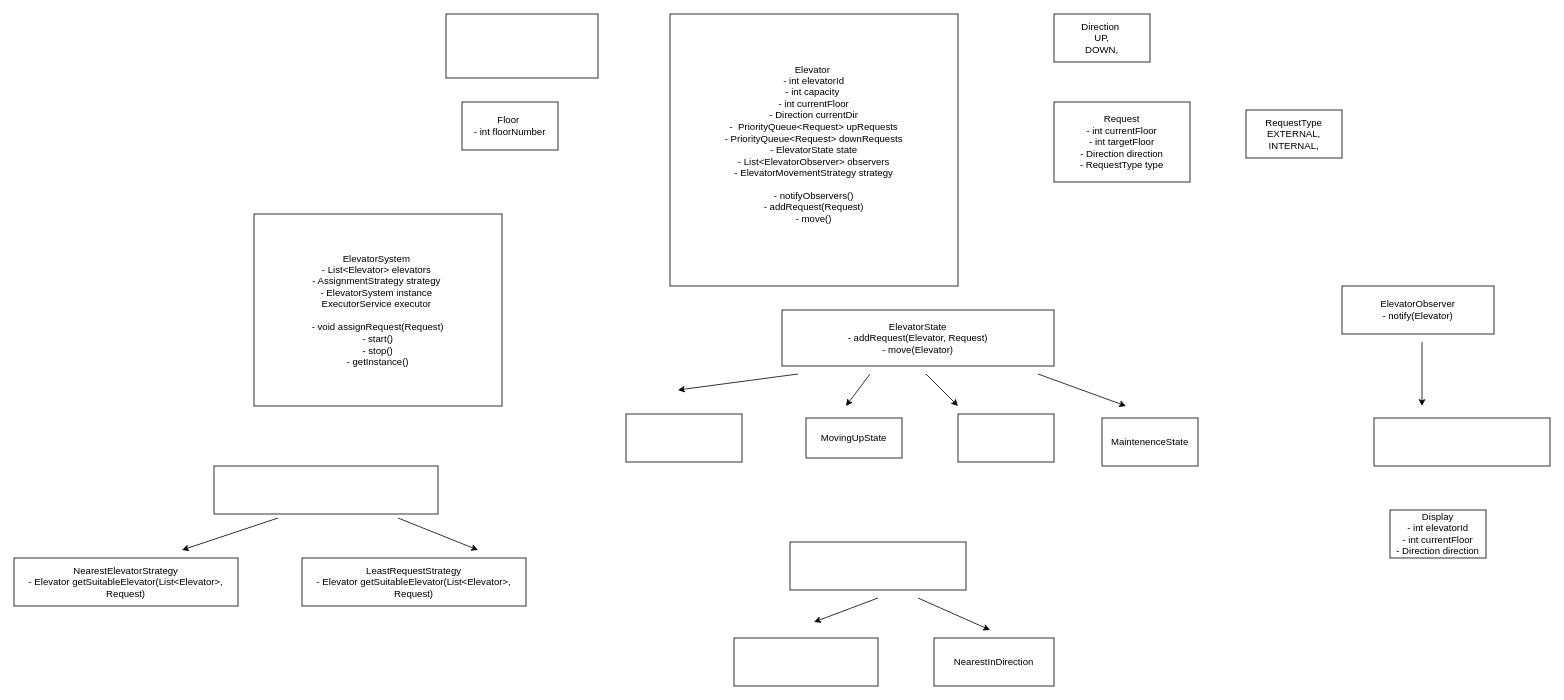
Some shapes in this 1564 by 700 pixel diagram are drawn without their labels. The shapes that lost their labels are listed below. From the top down, each one's centre as x and y in pixels, then its label:
At (521,45): "Building - List<Floor> floors - ElevatorSystem system".
At (683,437): "IdleState".
At (1005,437): "MovingDownState".
At (1461,441): "DisplayObserver - List<Display> boards - notify(Elevator)".
At (325,489): "AssignmentStrategy - Elevator getSuitableElevator(List<Elevator>, Request)".
At (877,565): "ElevatorMovementStrategy - int returnNextFloor(Elevator)".
At (805,661): "FCFS".
